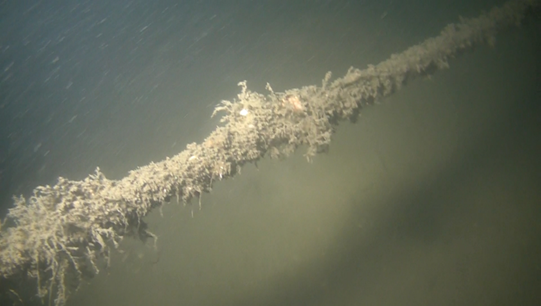rope: (1, 1, 541, 285)
